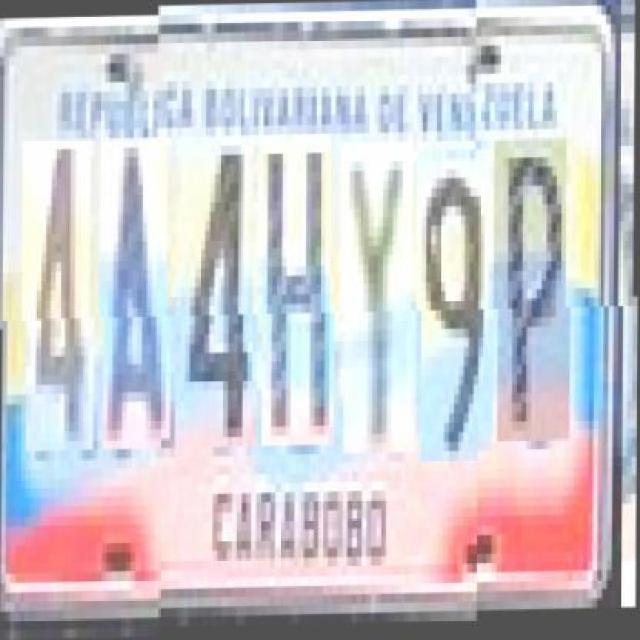4: (181, 136, 259, 449), (26, 130, 96, 442)
9: (420, 151, 494, 464)
a: (103, 128, 172, 441)
h: (262, 135, 336, 447)
p: (498, 150, 572, 452)
y: (344, 143, 418, 455)
